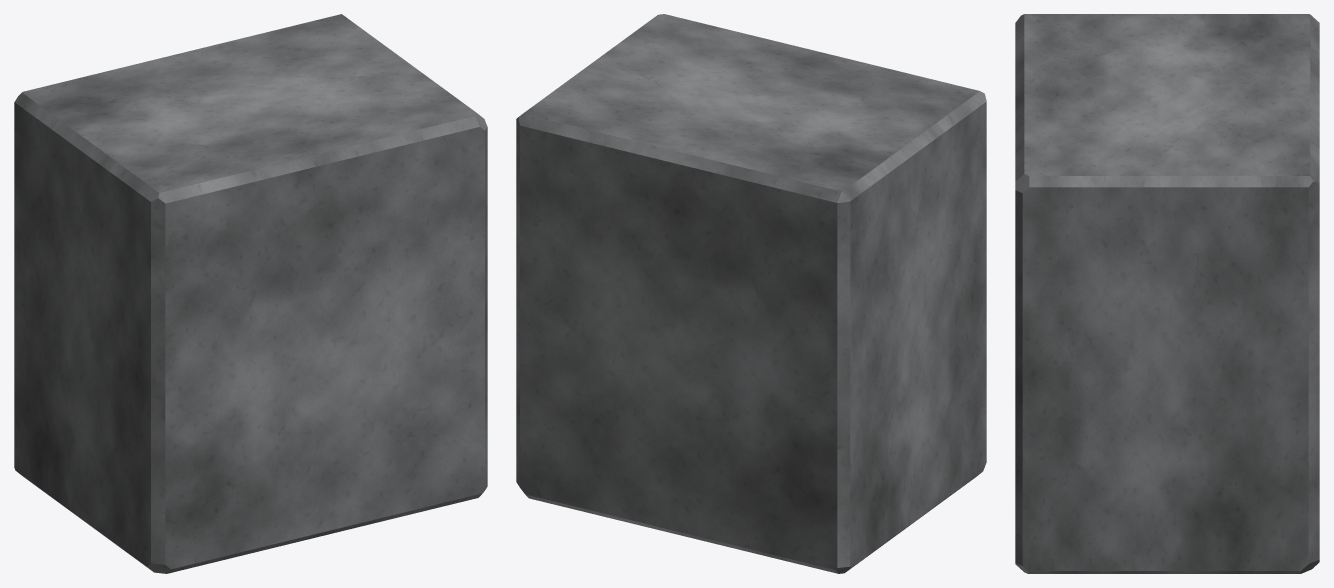
The model's file is limestone-block-01.glb.
3 renders of one model, left to right at view 1: azimuth 30°, elevation 25°; view 2: azimuth 150°, elevation 25°; view 3: azimuth 270°, elevation 25°, orthographic. The views are drawn at different scales.
Parts seen in each view (by area): view 1: limestone-block-01; view 2: limestone-block-01; view 3: limestone-block-01.
Boxes of the visible parts, x1,y1,x2,y2 form: limestone-block-01: (14, 14, 487, 573); limestone-block-01: (516, 14, 986, 573); limestone-block-01: (1015, 14, 1319, 573).
Size of the model in its own units: 0.28 by 0.3058 by 0.2123.
Materials: 1 (1 with a texture image).
